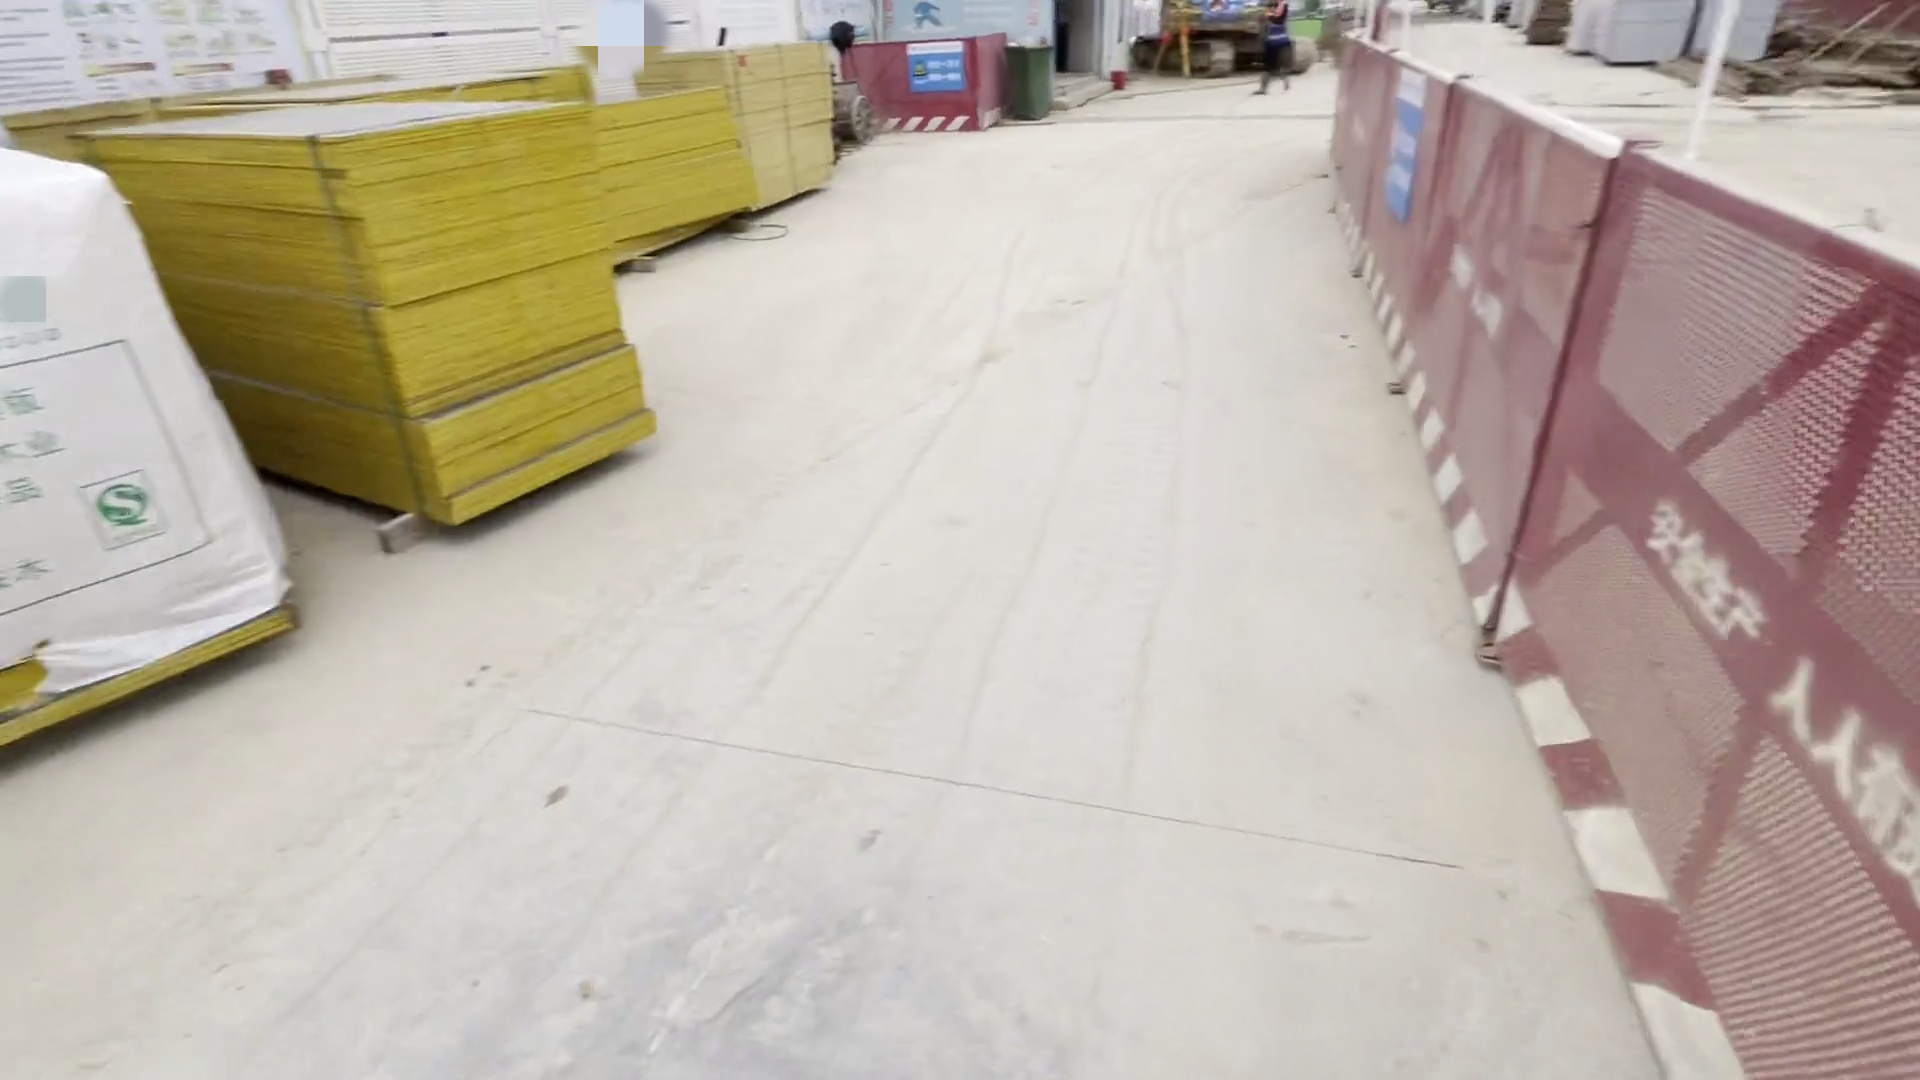board: (123, 109, 688, 514)
